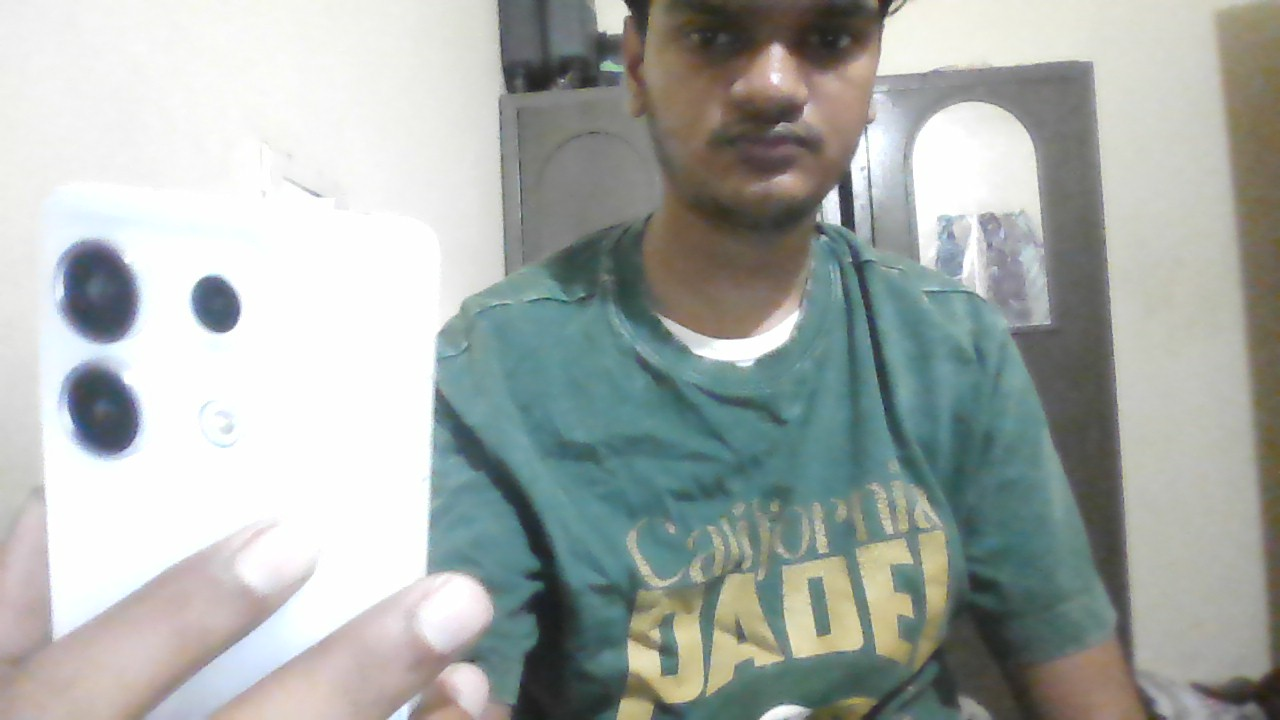phone: (37, 181, 433, 526)
